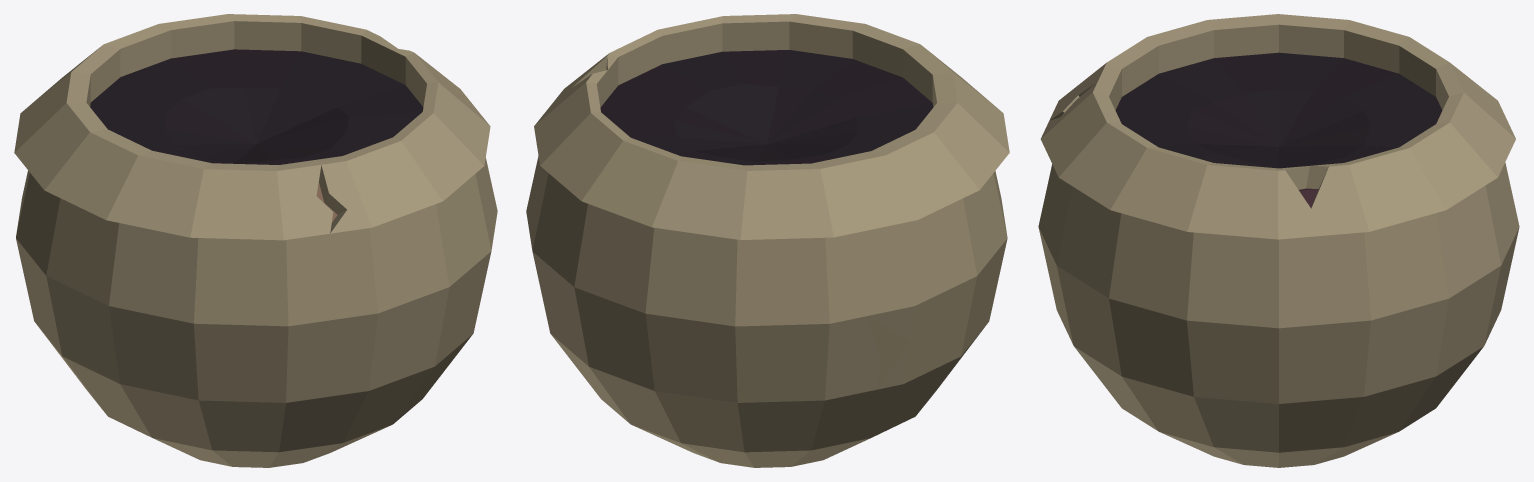
Rendered from pot3.fbx.
3 views of the same model, side by side, from view 1: azimuth 30°, elevation 25°; view 2: azimuth 150°, elevation 25°; view 3: azimuth 270°, elevation 25° (orthographic).
Visible parts, largest first — view 1: Pot3; view 2: Pot3; view 3: Pot3.
Part boxes in pixels (box(x1,y1,x2,y2)): Pot3: box(14, 14, 497, 467); Pot3: box(526, 14, 1009, 467); Pot3: box(1038, 14, 1519, 467).
Bounding box in the file's own units: 40.21 × 30.68 × 40.
